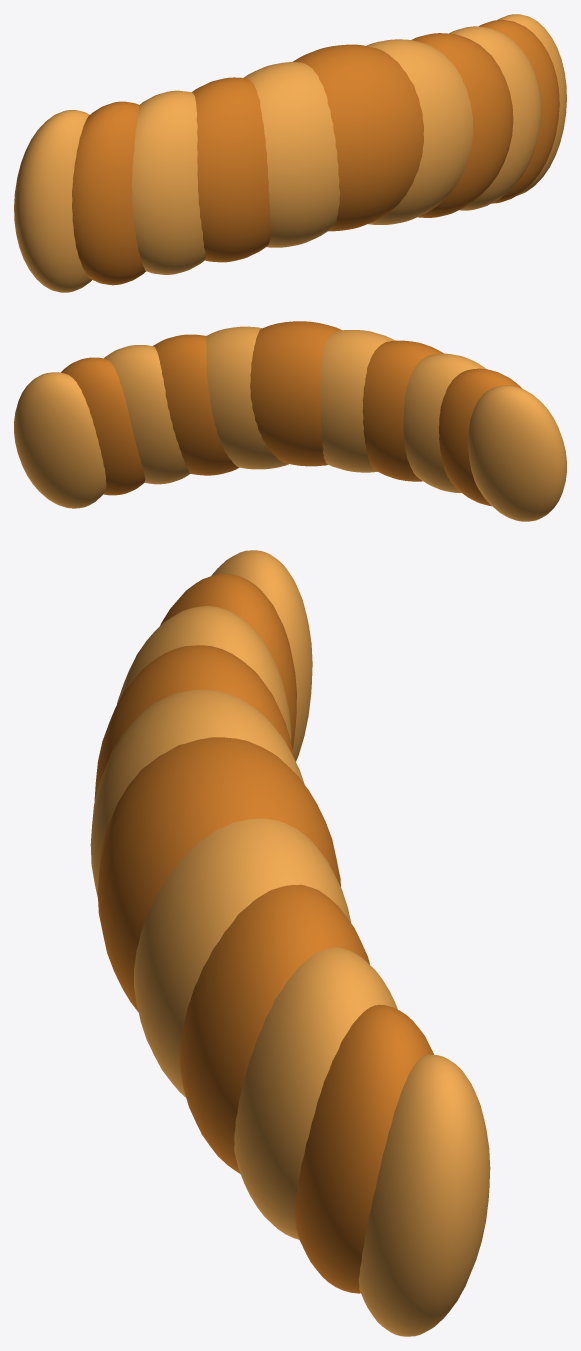
Rendered from croissant.glb.
3 views of the same model, one above another, from view 1: azimuth 30°, elevation 25°; view 2: azimuth 150°, elevation 25°; view 3: azimuth 270°, elevation 25° (orthographic). The views are drawn at different scales.
Visible parts, largest first — view 1: LaBaguette_croissant; view 2: LaBaguette_croissant; view 3: LaBaguette_croissant.
Part boxes in pixels (box(x1,y1,x2,y2)): LaBaguette_croissant: box(14, 14, 566, 292); LaBaguette_croissant: box(14, 321, 566, 521); LaBaguette_croissant: box(90, 550, 490, 1336).
Size of the model in its own units: 2.41 by 0.9116 by 0.84.
